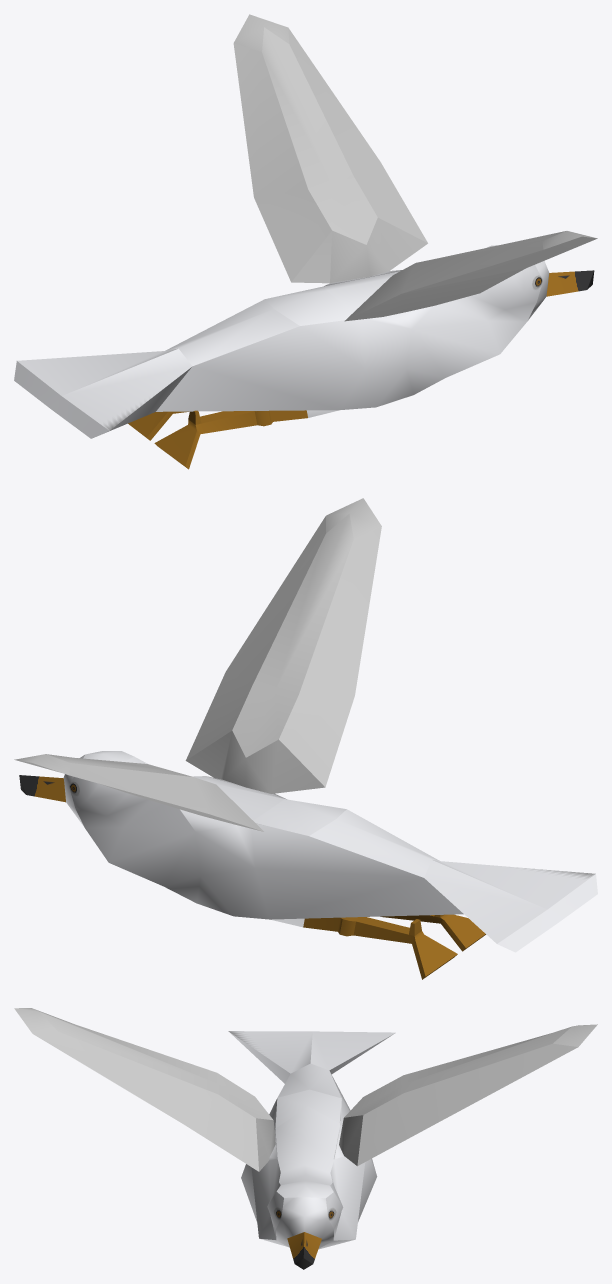
Rendered from bird_2.glb.
3 renders of one model, top to bottom at view 1: azimuth 30°, elevation 25°; view 2: azimuth 150°, elevation 25°; view 3: azimuth 270°, elevation 25°, orthographic. The views are drawn at different scales.
Parts seen in each view (by area): view 1: Flying_seagull; view 2: Flying_seagull; view 3: Flying_seagull.
Boxes of the visible parts, left/top/right/bottom form: Flying_seagull: left=14, top=14, right=597, bottom=469; Flying_seagull: left=14, top=498, right=597, bottom=979; Flying_seagull: left=14, top=1008, right=597, bottom=1269.
Size of the model in its own units: 1.87 by 0.8858 by 1.99.
Materials: 1 (1 with a texture image).
